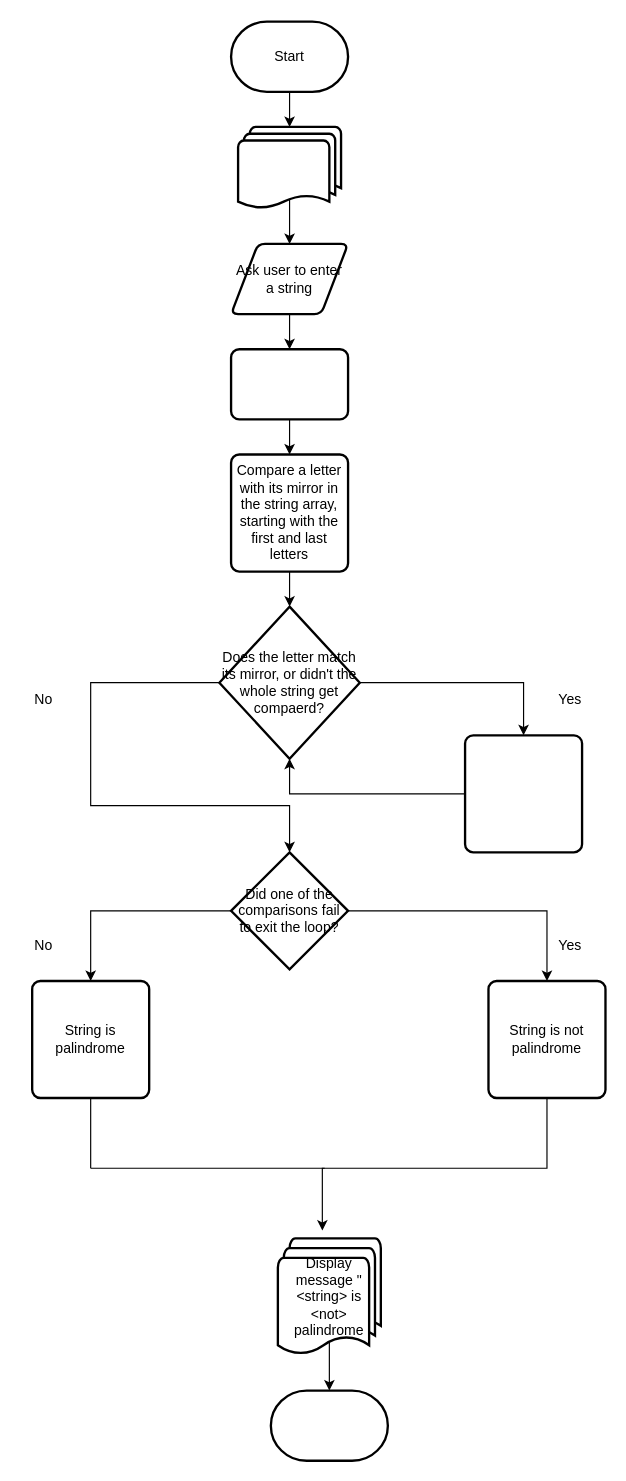
This 626x1481 diagram has some shape labels left out. Here are the shapes that lost their labels. From the top down, the box of each, then its label:
(236, 125, 342, 209): Display program instructions
(229, 347, 349, 420): Find length of the string
(463, 734, 583, 853): Change indexes and compare
(269, 1389, 388, 1461): End
